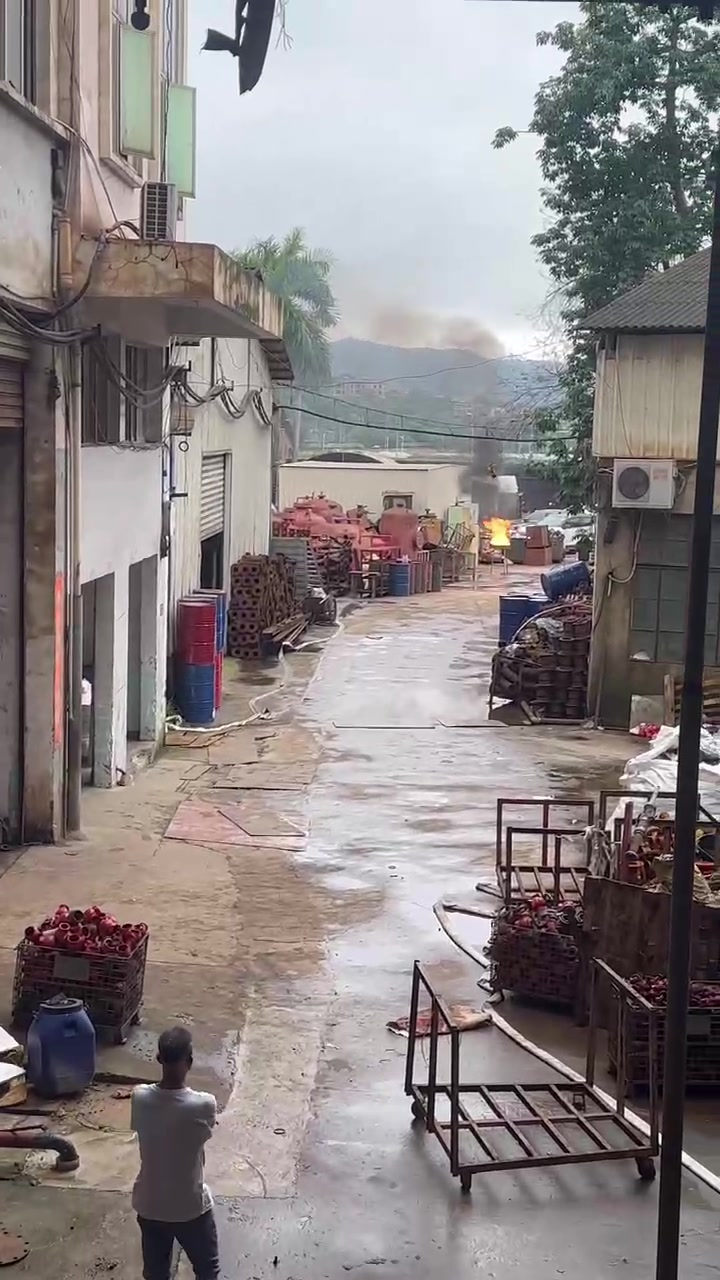fire: (482, 515, 510, 545)
